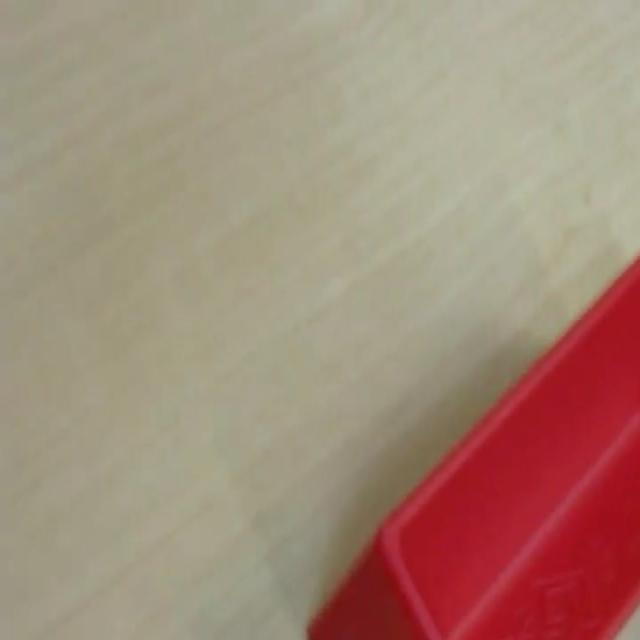red_block: (304, 252, 638, 637)
